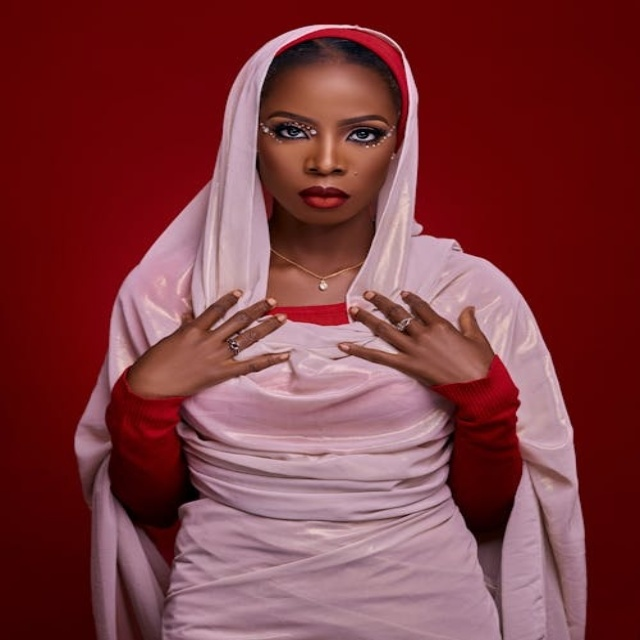Sin_gafas: (261, 106, 397, 155)
Sin_guantes: (129, 287, 291, 400), (339, 288, 498, 392)
Sin_mascara: (298, 186, 350, 208)
